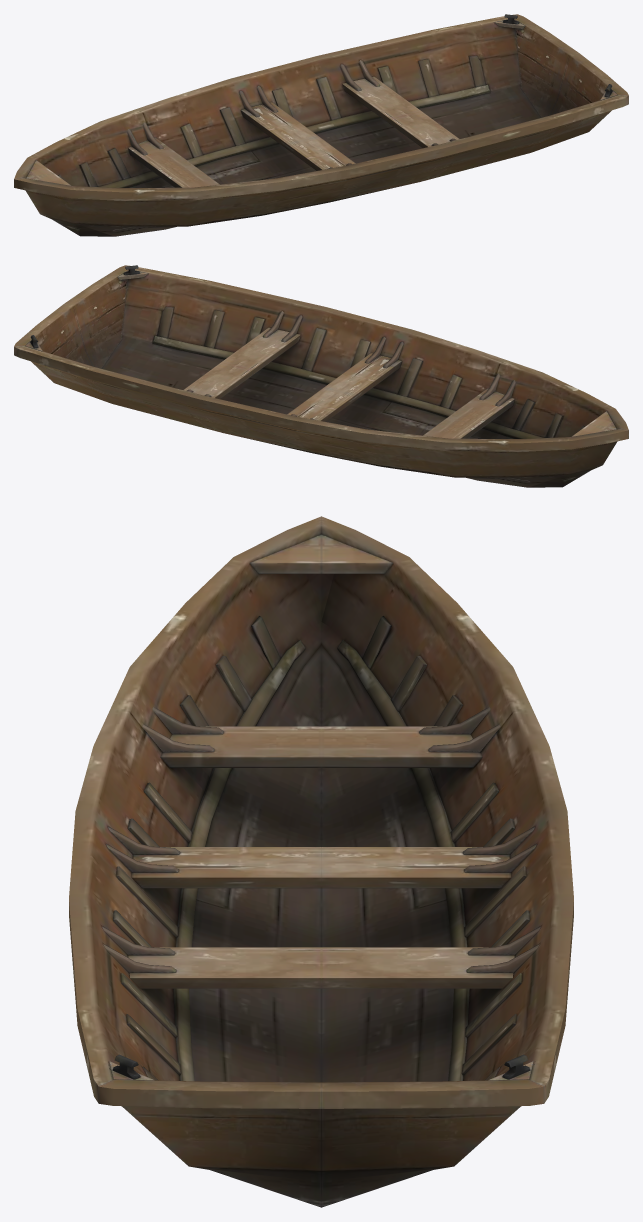
The picture shows the model from 3 angles, top to bottom: view 1: azimuth 30°, elevation 25°; view 2: azimuth 150°, elevation 25°; view 3: azimuth 270°, elevation 25°; orthographic projection. The views are drawn at different scales.
Visible parts, largest first — view 1: body0_model0_lod0_mesh0; view 2: body0_model0_lod0_mesh0; view 3: body0_model0_lod0_mesh0.
Boxes of the visible parts, x1,y1,x2,y2 form: body0_model0_lod0_mesh0: (14,14,628,236); body0_model0_lod0_mesh0: (14,265,628,487); body0_model0_lod0_mesh0: (69,516,573,1207).
Size of the model in its own units: 217 by 32.44 by 84.13.
1 material, 1 textured.
